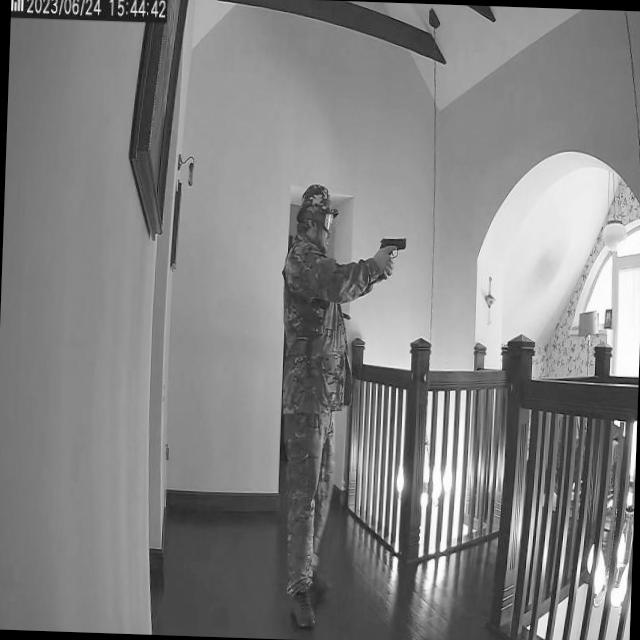gun: (378, 233, 408, 264)
person with a gun: (270, 180, 368, 630)
